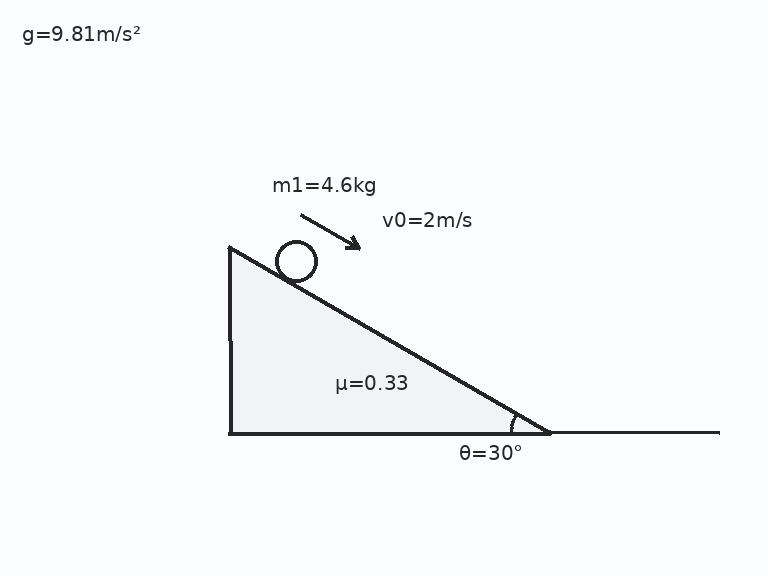ball: (273, 238, 319, 284)
ramp: (227, 245, 553, 435)
